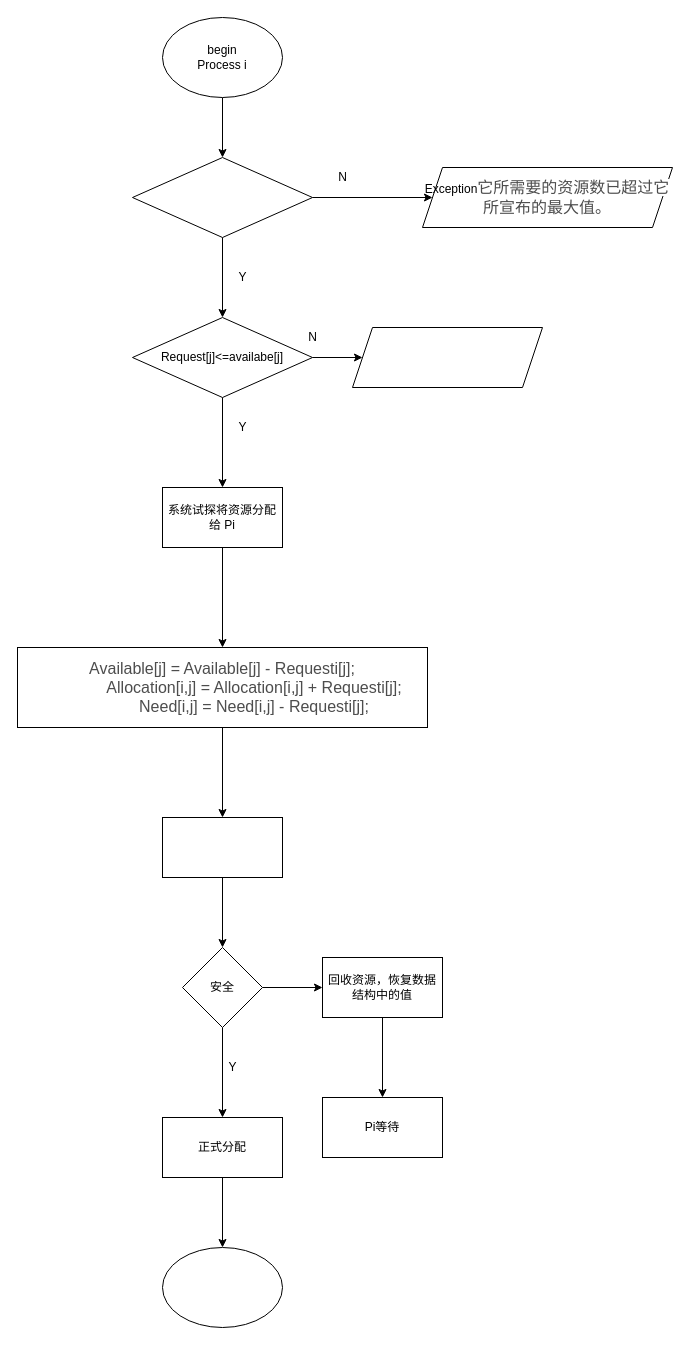
The diagram is 690 pixels wide and 1345 high, and some of its shapes have lost their labels. Each missing label, with the centre of its shape:
"end" goes at pixel 222 1287.
"Exception 表示尚无足够资源，Pi须等待" goes at pixel 447 357.
"Request[j]<=Need[i,j]" goes at pixel 222 197.
"安全性检测" goes at pixel 222 847.
